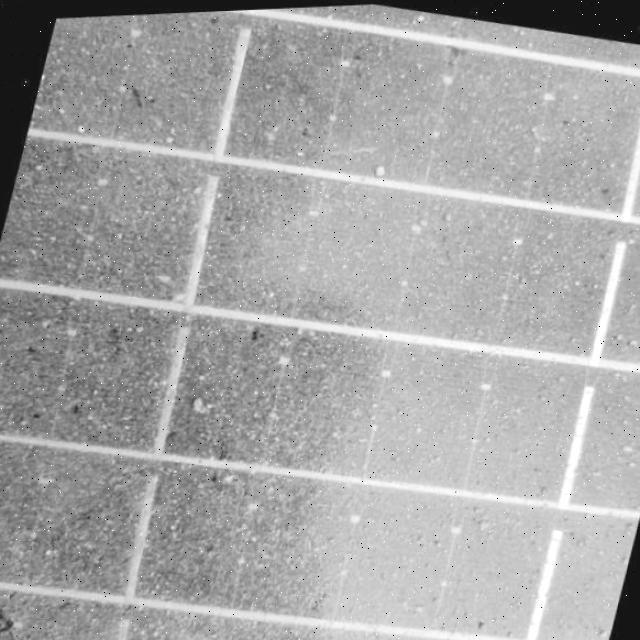Surface Contaminant: (0, 1, 640, 640)
